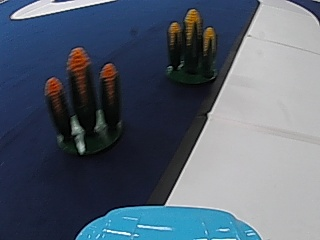corn: (47, 53, 123, 157), (165, 6, 218, 85)
